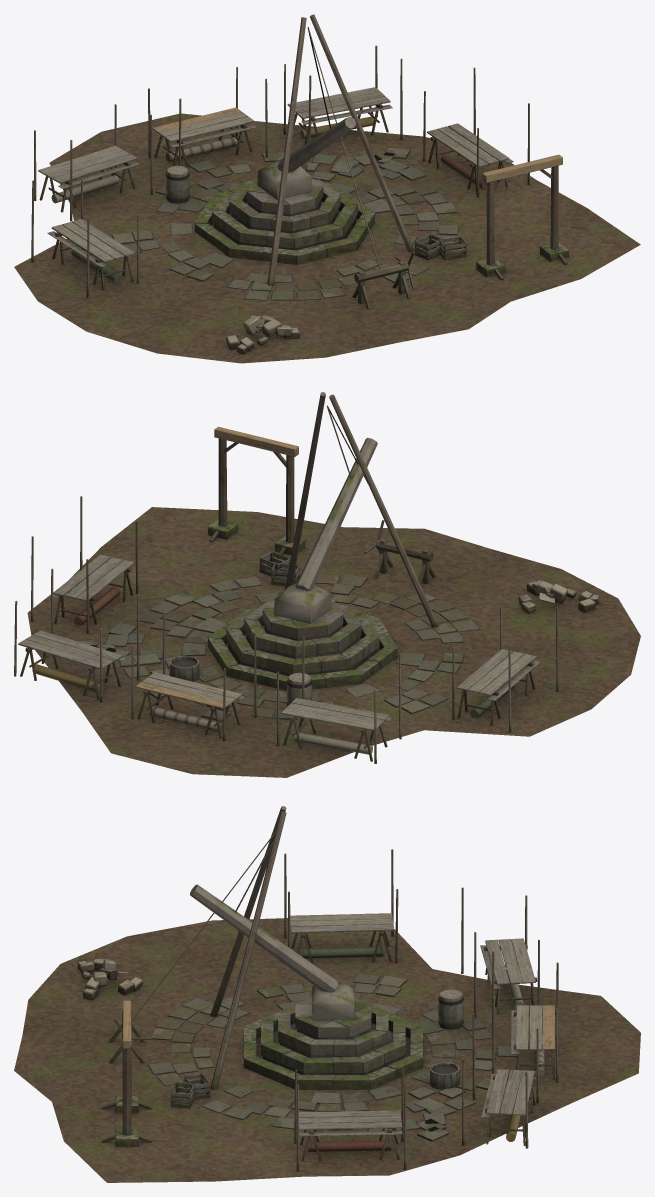
The model's file is market_build2.glb.
The picture shows the model from 3 angles, top to bottom: view 1: azimuth 30°, elevation 25°; view 2: azimuth 150°, elevation 25°; view 3: azimuth 270°, elevation 25°; orthographic projection. The views are drawn at different scales.
Parts seen in each view (by area): view 1: market_build2_LOD0; view 2: market_build2_LOD0; view 3: market_build2_LOD0.
Part boxes in pixels (left/top/right/bottom): market_build2_LOD0: left=14, top=14, right=640, bottom=363; market_build2_LOD0: left=14, top=392, right=640, bottom=777; market_build2_LOD0: left=14, top=806, right=640, bottom=1182.
Size of what is drawn, in the model's own units: 15.22 by 6.53 by 15.2.
1 material, 1 textured.
